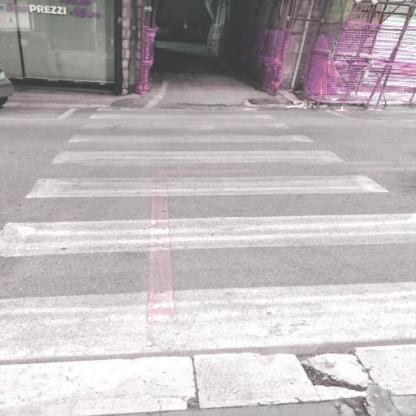crosswalk: (1, 211, 416, 348), (21, 146, 401, 202)
